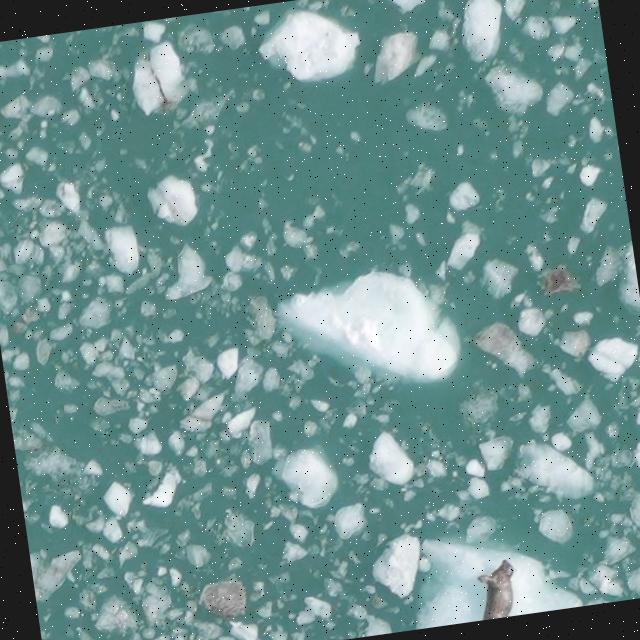seal: (472, 558, 524, 620)
